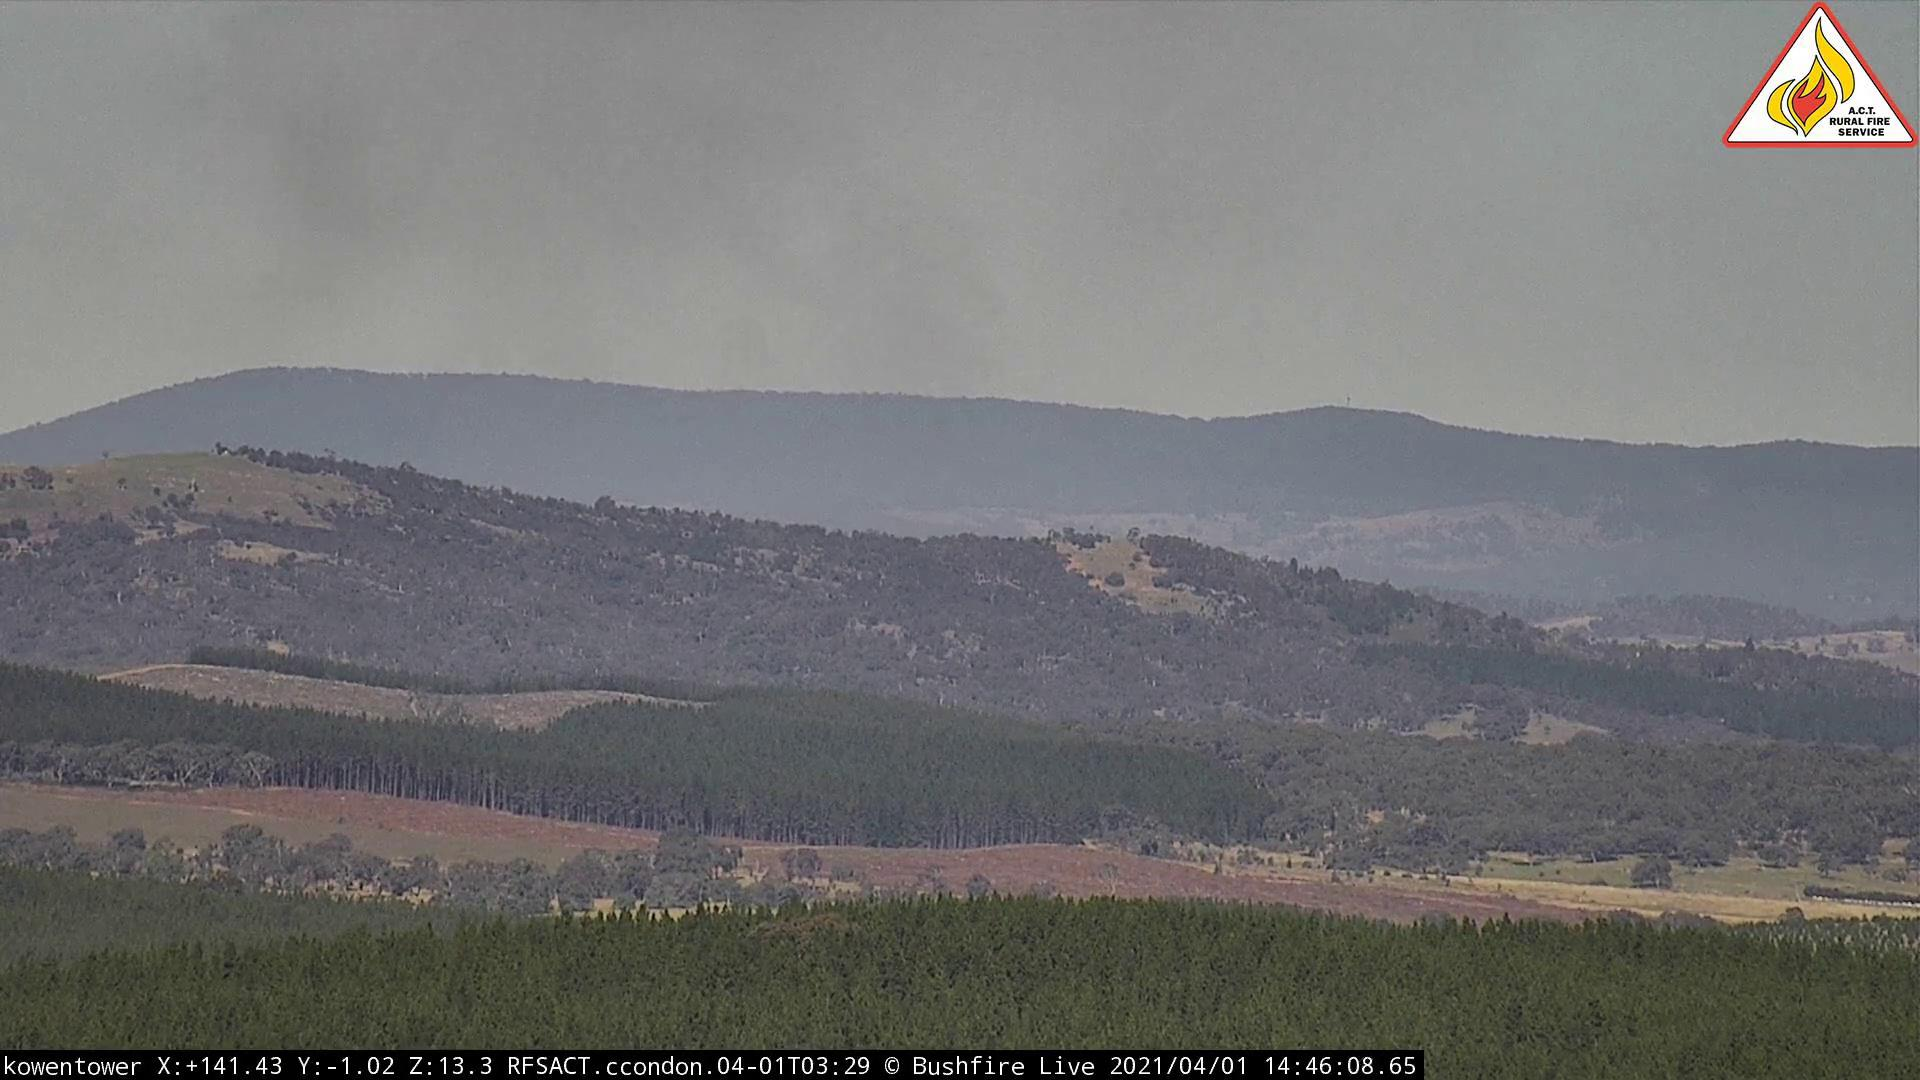Smoke: (131, 3, 1030, 415)
